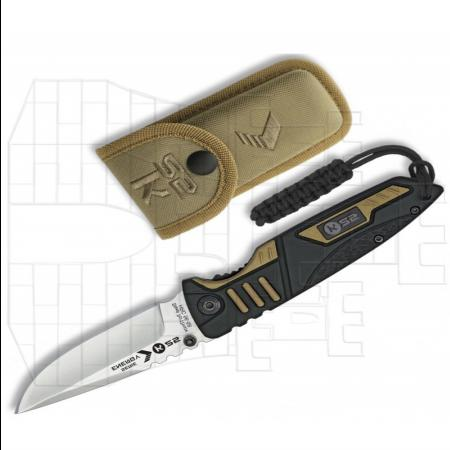long weapon: (6, 269, 238, 419)
